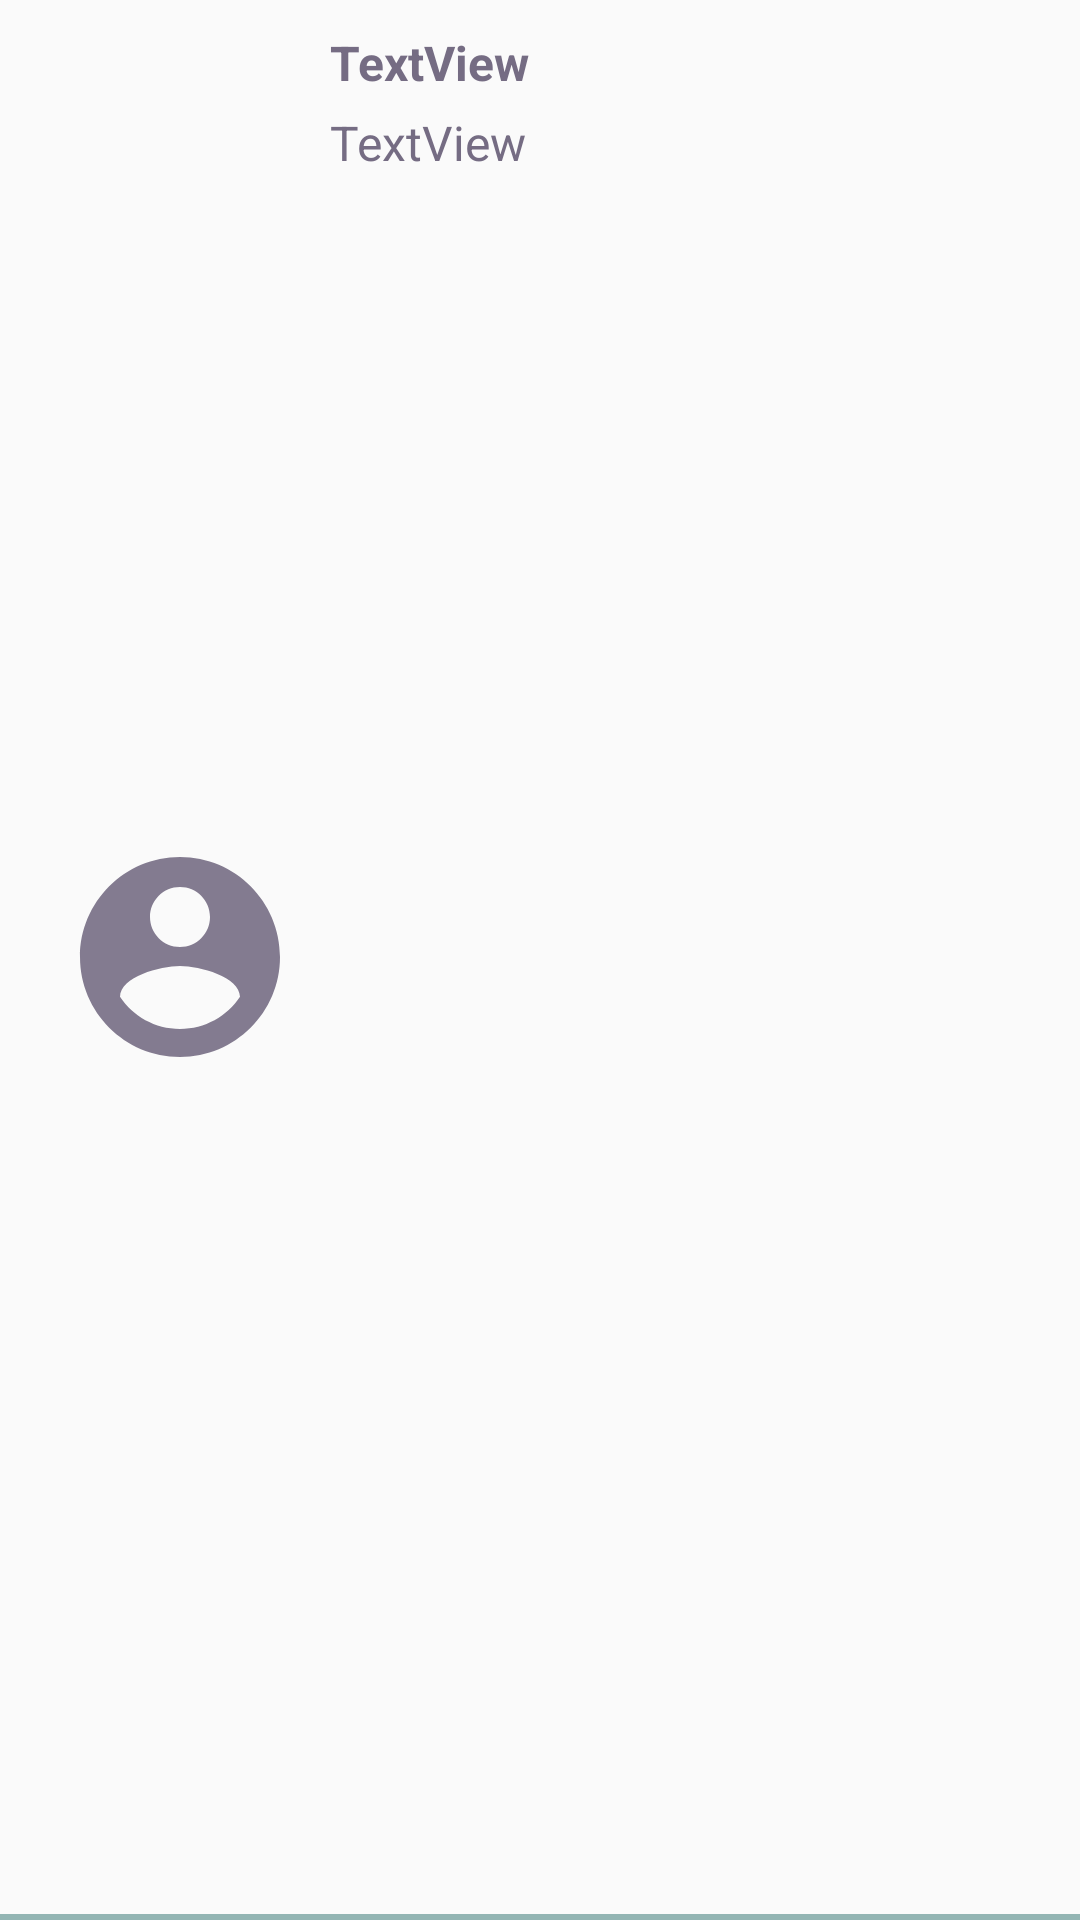

Named icons in this screenshot (1080px×1920px) and their bounding boxes, (x1, y1, x2, y2):
account circle: (80, 857, 280, 1057)
